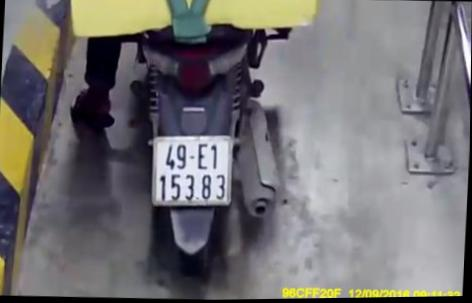LP: (149, 134, 238, 209)
